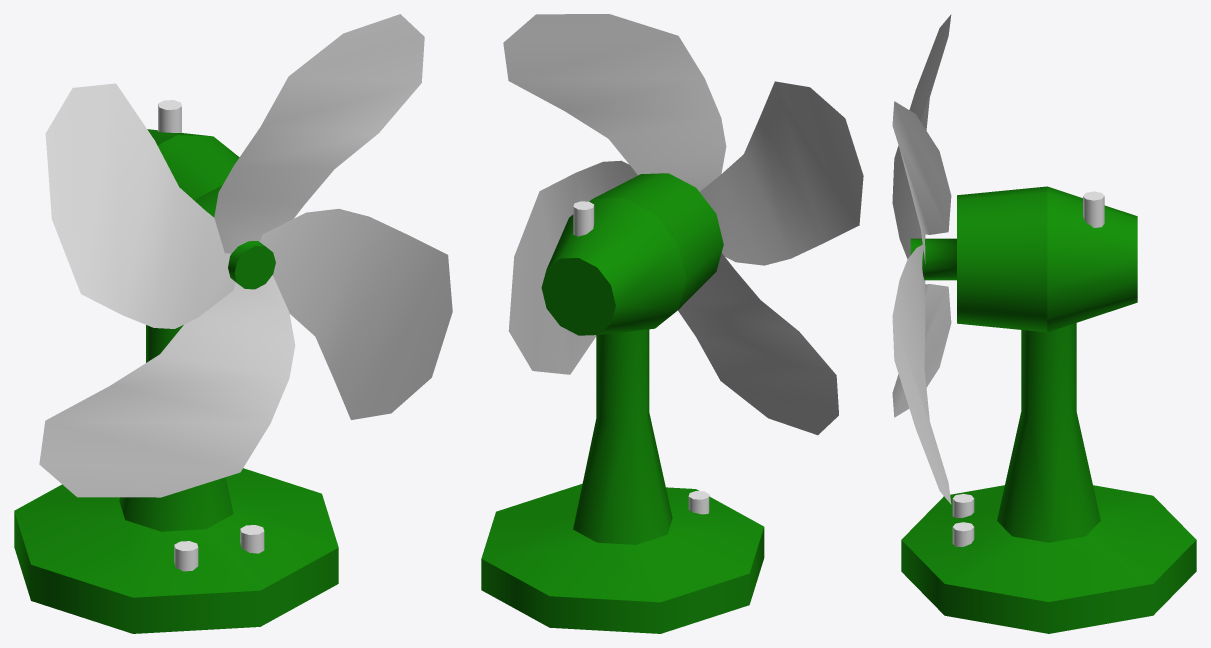
File: Desk_Fan.fbx
3 views of the same model, side by side, from view 1: azimuth 30°, elevation 25°; view 2: azimuth 150°, elevation 25°; view 3: azimuth 270°, elevation 25° (orthographic). The views are drawn at different scales.
Parts seen in each view (by area): view 1: Desk_Fan; view 2: Desk_Fan; view 3: Desk_Fan.
Boxes of the visible parts, x1,y1,x2,y2 form: Desk_Fan: (14, 14, 452, 633); Desk_Fan: (481, 14, 863, 633); Desk_Fan: (892, 14, 1196, 633).
Bounding box in the file's own units: 0.3893 × 0.5244 × 0.2911.
